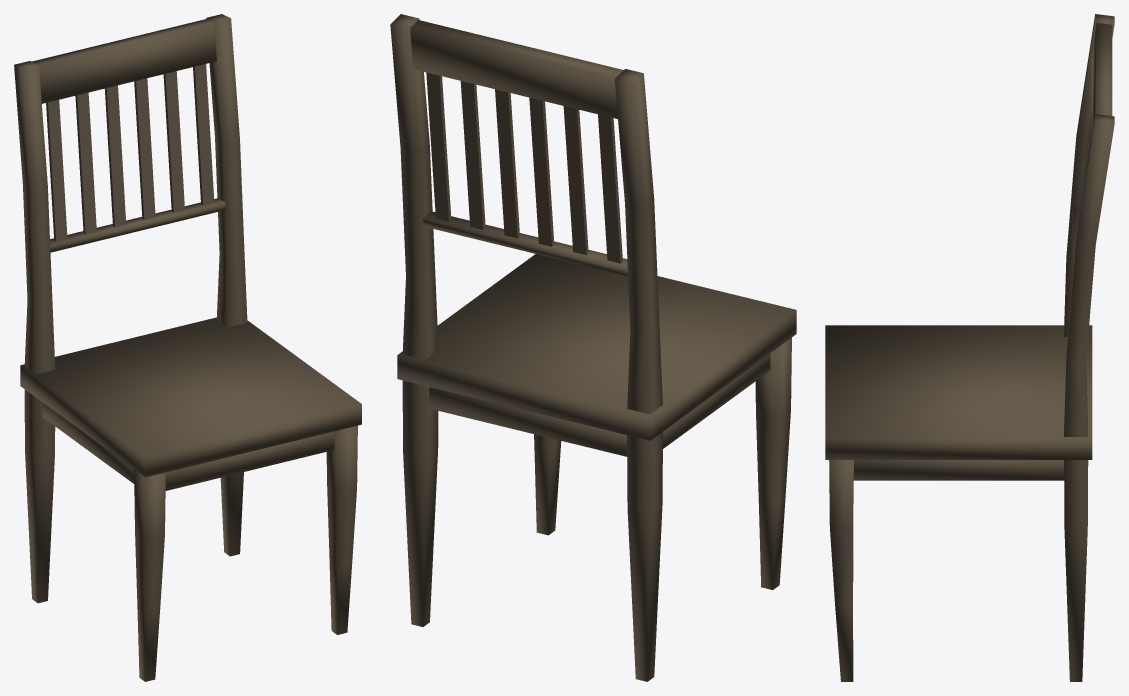
File: Chair_4.glb
The picture shows the model from 3 angles, left to right: view 1: azimuth 30°, elevation 25°; view 2: azimuth 150°, elevation 25°; view 3: azimuth 270°, elevation 25°; orthographic projection. The views are drawn at different scales.
Visible parts, largest first — view 1: Chair_4; view 2: Chair_4; view 3: Chair_4.
Part boxes in pixels (x1,y1,x2,y2): Chair_4: [14, 14, 361, 681]; Chair_4: [390, 14, 796, 681]; Chair_4: [825, 14, 1114, 681].
Size of the model in its own units: 0.7617 by 1.77 by 0.8254.
